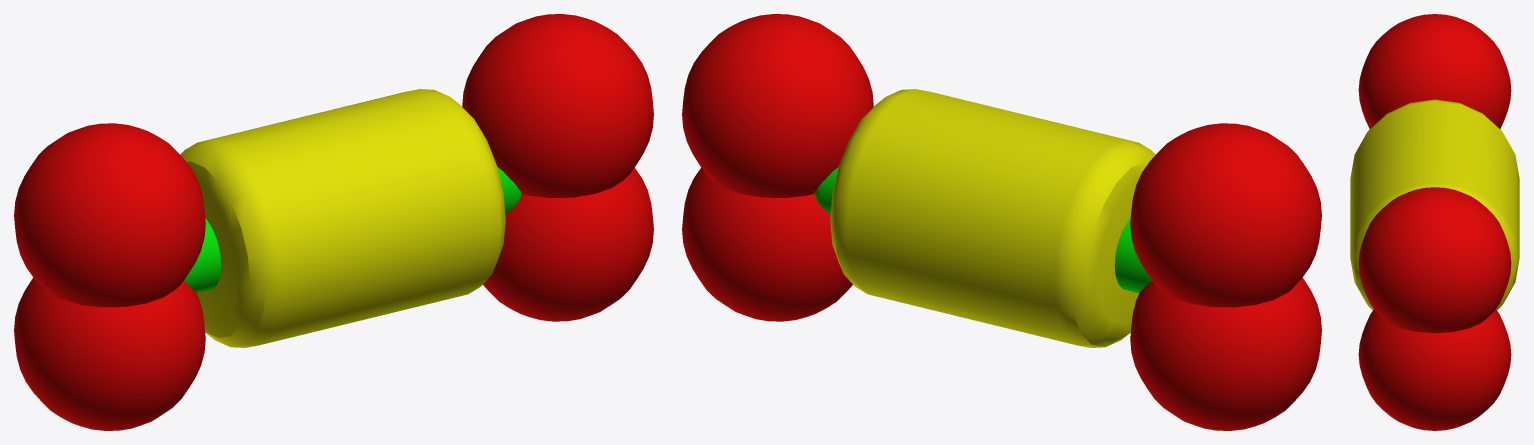
Rendered from plastic bone_low.fbx.
3 renders of one model, left to right at view 1: azimuth 30°, elevation 25°; view 2: azimuth 150°, elevation 25°; view 3: azimuth 270°, elevation 25°, orthographic. The views are drawn at different scales.
Visible parts, largest first — view 1: pCylinder7; view 2: pCylinder7; view 3: pCylinder7.
Boxes of the visible parts, x1=… form: pCylinder7: x1=14, y1=14, x2=653, y2=430; pCylinder7: x1=682, y1=14, x2=1321, y2=430; pCylinder7: x1=1350, y1=14, x2=1519, y2=430.
Size of the model in its own units: 7.37 by 3.32 by 2.22.
